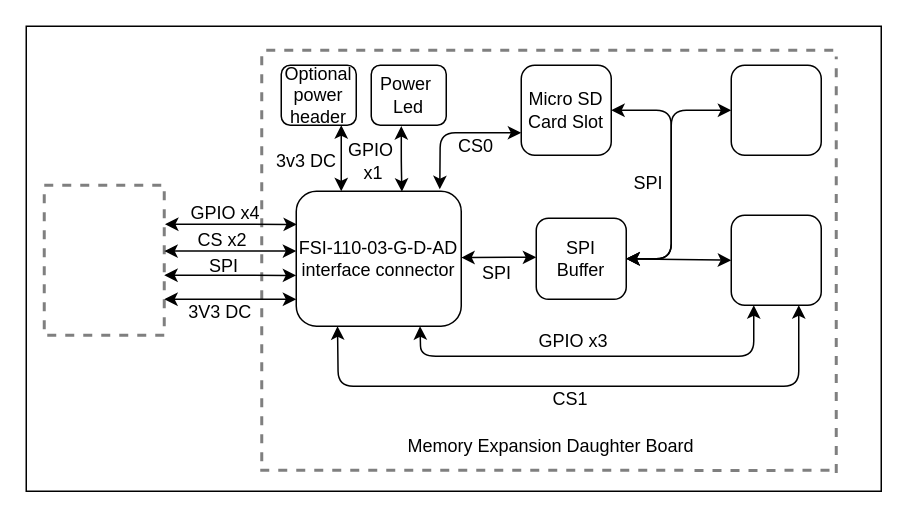
Image size: 908x518. Some labels were removed from this diagram. Each missing label, with the centre of its shape:
"Debug SPI Header" goes at (x=775, y=109).
"NOR Flash Memory" goes at (x=775, y=259).
"OBDH 2.0 (Motherboard)" goes at (x=103, y=259).
